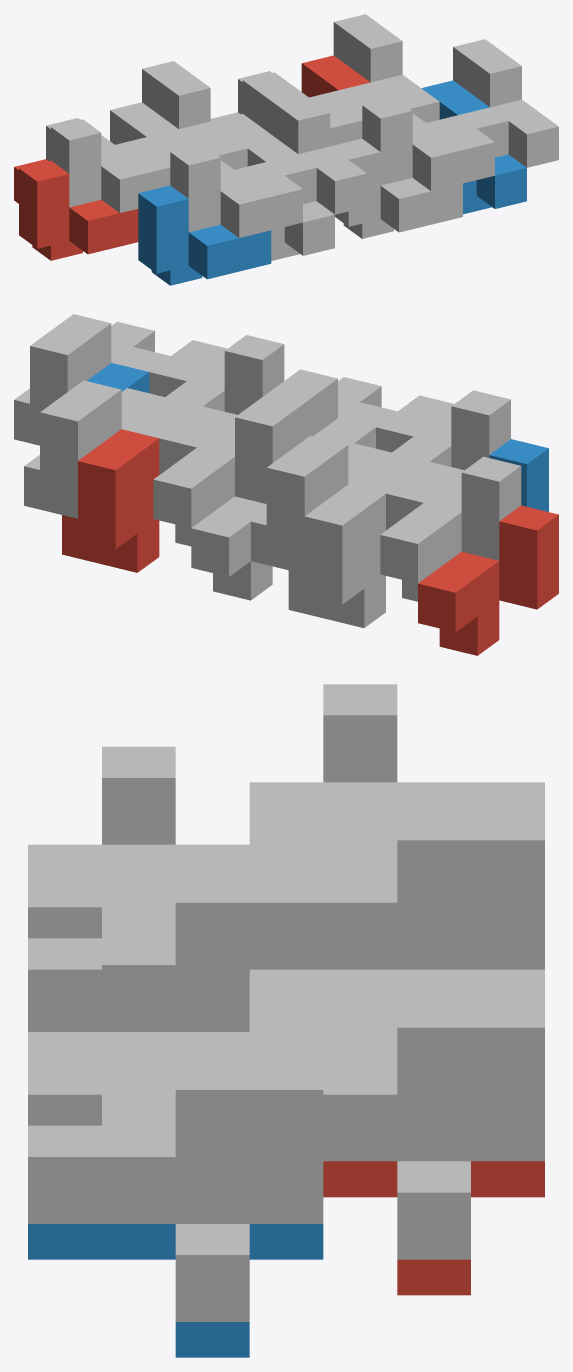
Rendered from tiling.obj.
The picture shows the model from 3 angles, top to bottom: view 1: azimuth 30°, elevation 25°; view 2: azimuth 150°, elevation 25°; view 3: azimuth 270°, elevation 25°; orthographic projection. The views are drawn at different scales.
Parts seen in each view (by area): view 1: copy_1_domain_8, copy_1_domain_4, copy_1_domain_2, copy_1_domain_1, copy_1_domain_3, copy_2_domain_4, copy_2_domain_8, copy_1_domain_6, copy_2_domain_7, copy_2_domain_3, copy_2_domain_2, copy_2_domain_6 (+4 smaller); view 2: copy_1_domain_3, copy_1_domain_7, copy_1_domain_1, copy_2_domain_1, copy_2_domain_5, copy_2_domain_3, copy_2_domain_7, copy_1_domain_4, copy_2_domain_8, copy_1_domain_8, copy_1_domain_5, copy_2_domain_4 (+3 smaller); view 3: copy_2_domain_8, copy_2_domain_7, copy_2_domain_4, copy_2_domain_3, copy_1_domain_4, copy_1_domain_8, copy_1_domain_7, copy_1_domain_3, copy_2_domain_6, copy_2_domain_5.
Boxes of the visible parts, box(x1,y1,x2,y2) form: copy_1_domain_8: box(357, 96, 494, 191); copy_1_domain_4: box(165, 143, 302, 237); copy_1_domain_2: box(138, 185, 271, 285); copy_1_domain_1: box(14, 159, 138, 260); copy_1_domain_3: box(46, 118, 170, 212); copy_2_domain_4: box(261, 86, 366, 214); copy_2_domain_8: box(453, 39, 558, 167); copy_1_domain_6: box(330, 138, 462, 238); copy_2_domain_7: box(333, 14, 439, 122); copy_2_domain_3: box(142, 61, 247, 169); copy_2_domain_2: box(230, 127, 334, 260); copy_2_domain_6: box(421, 80, 526, 214); copy_1_domain_3: box(380, 456, 521, 601); copy_1_domain_7: box(153, 401, 294, 546); copy_1_domain_1: box(418, 505, 558, 655); copy_2_domain_1: box(288, 484, 385, 627); copy_2_domain_5: box(62, 429, 159, 572); copy_2_domain_3: box(251, 435, 407, 573); copy_2_domain_7: box(24, 380, 180, 518); copy_1_domain_4: box(370, 390, 510, 477); copy_2_domain_8: box(14, 314, 170, 445); copy_1_domain_8: box(143, 335, 284, 422); copy_1_domain_5: box(191, 496, 272, 600); copy_2_domain_4: box(257, 369, 397, 446); copy_2_domain_8: box(28, 1058, 323, 1321); copy_2_domain_7: box(323, 996, 544, 1259); copy_2_domain_4: box(28, 871, 323, 1031); copy_2_domain_3: box(323, 809, 544, 969); copy_1_domain_4: box(28, 746, 323, 938); copy_1_domain_8: box(28, 934, 323, 1125); copy_1_domain_7: box(249, 871, 544, 1031); copy_1_domain_3: box(249, 684, 544, 844); copy_2_domain_6: box(28, 1224, 323, 1357); copy_2_domain_5: box(323, 1161, 544, 1295).
Size of the model in its own units: 15 by 4 by 7.
